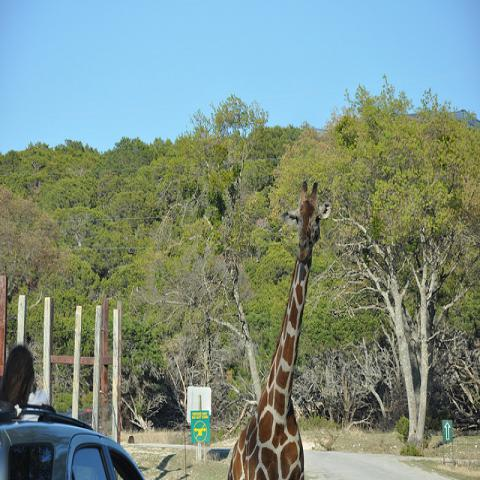car: (3, 421, 145, 479)
